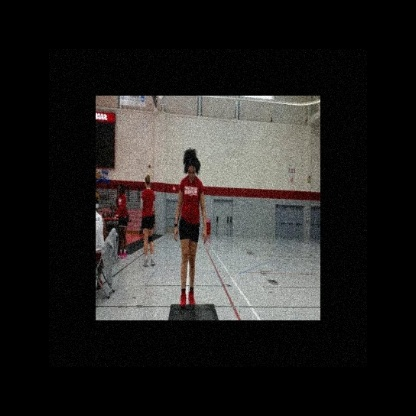lateral_flexion_right: (174, 147, 208, 311)
stance_width_narrow: (173, 174, 208, 311)
